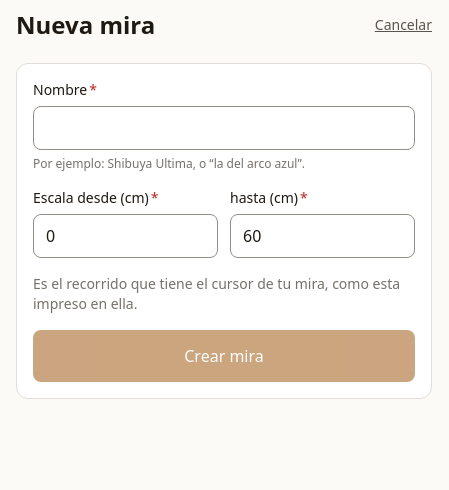
crear una mira › un error de la API se muestra con su codigo
The image size is (449, 490).
Type "Shibuya" into the field labelled "Nombre*" at (224, 128), box [33,106,415,150]
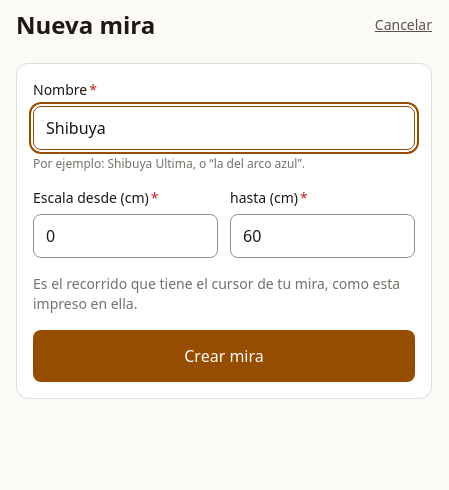
Click the button "Crear mira" at (224, 356), box [33,330,415,382]
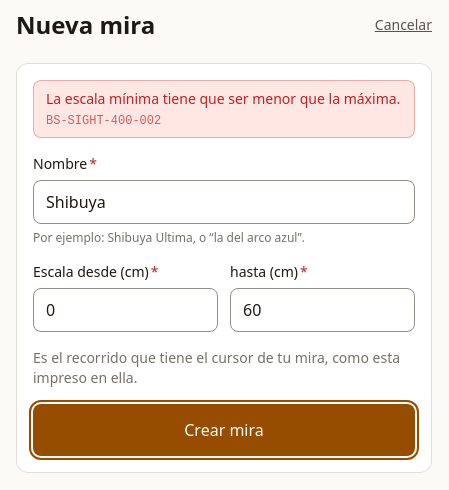
Expected: the message shows "escala mínima", [46,89,400,108]
